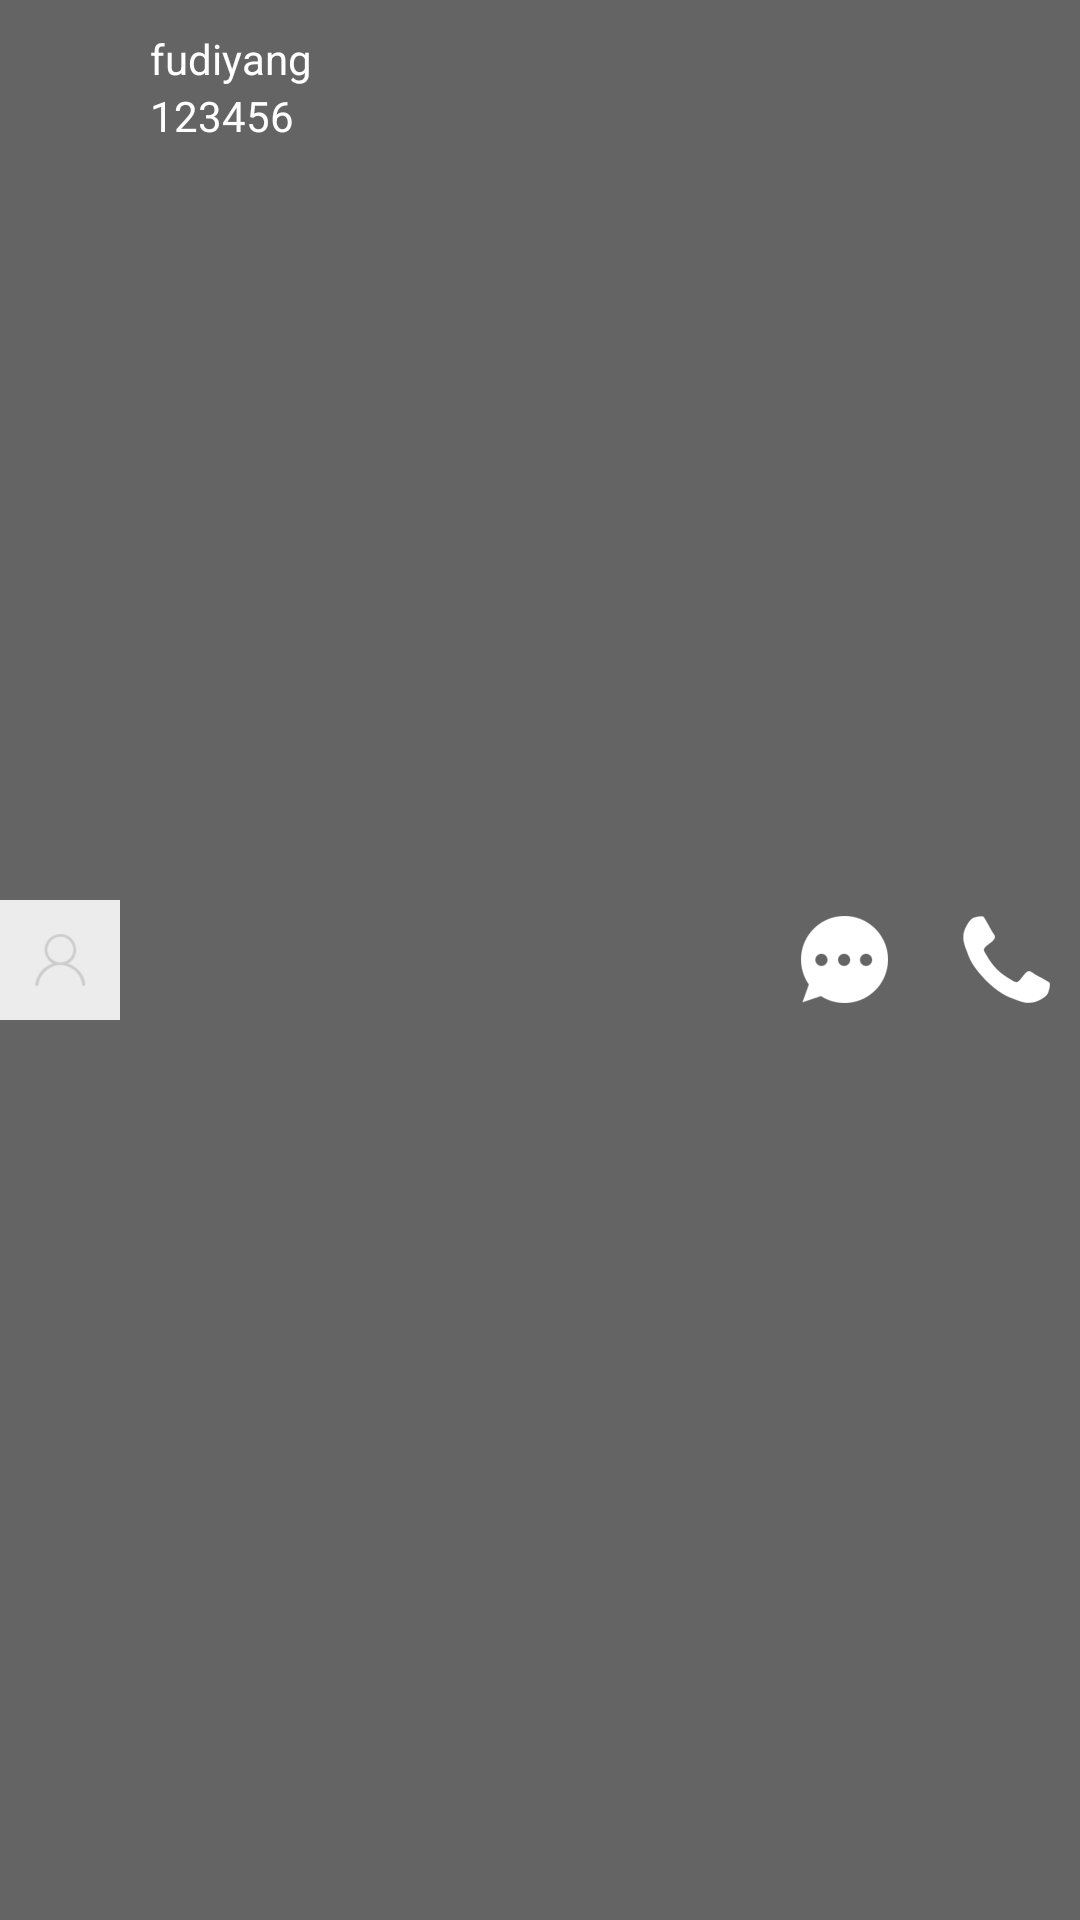

Screen size 1080w x 1920h. Icon name, then its center in pixels as point (x, y):
defult head: point (60, 960)
phone: point (1006, 959)
